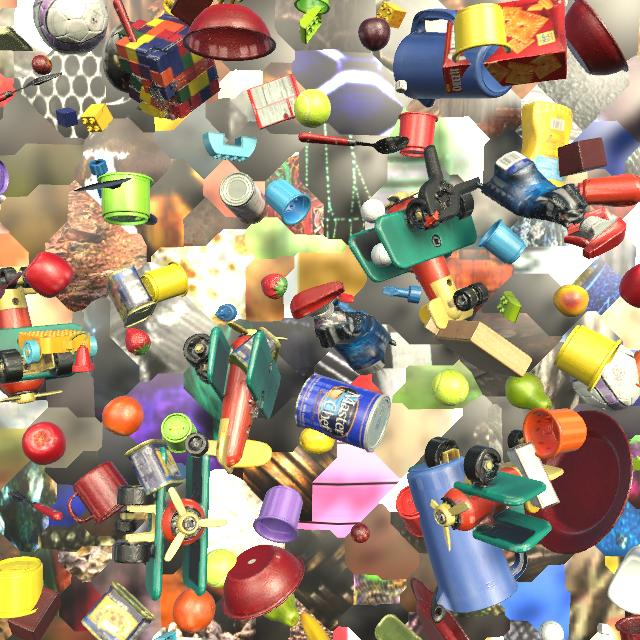ycb_002_master_chef_can: (295, 374, 391, 452)
ycb_003_cracker_box: (442, 0, 567, 94)
ycb_005_tomato_soup_can: (219, 172, 269, 224)
ycb_006_mustard_bottle: (521, 101, 572, 187)
ycb_008_pudding_box: (507, 441, 560, 509)
ycb_009_gelatin_box: (247, 74, 300, 130), (567, 206, 617, 240)
ycb_010_potted_meat_can: (81, 581, 156, 640), (124, 439, 184, 496), (106, 266, 157, 328), (228, 327, 281, 376), (375, 614, 422, 640)
ycb_011_banana: (300, 612, 330, 640)
ycb_012_strawberry: (125, 328, 151, 356), (261, 273, 288, 299)
ycb_013_apple: (24, 252, 74, 298), (22, 422, 66, 465), (619, 264, 640, 308)
ycb_014_lemon: (299, 428, 335, 455)
ycb_015_peach: (553, 284, 589, 318)
ycb_016_pear: (505, 372, 552, 410), (264, 593, 300, 626)
ycb_017_orange: (173, 588, 216, 633), (102, 396, 144, 437)
ycb_018_plum: (358, 17, 391, 52)
